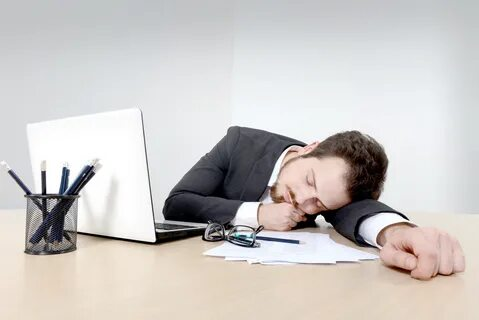sleep: (160, 124, 466, 268)
